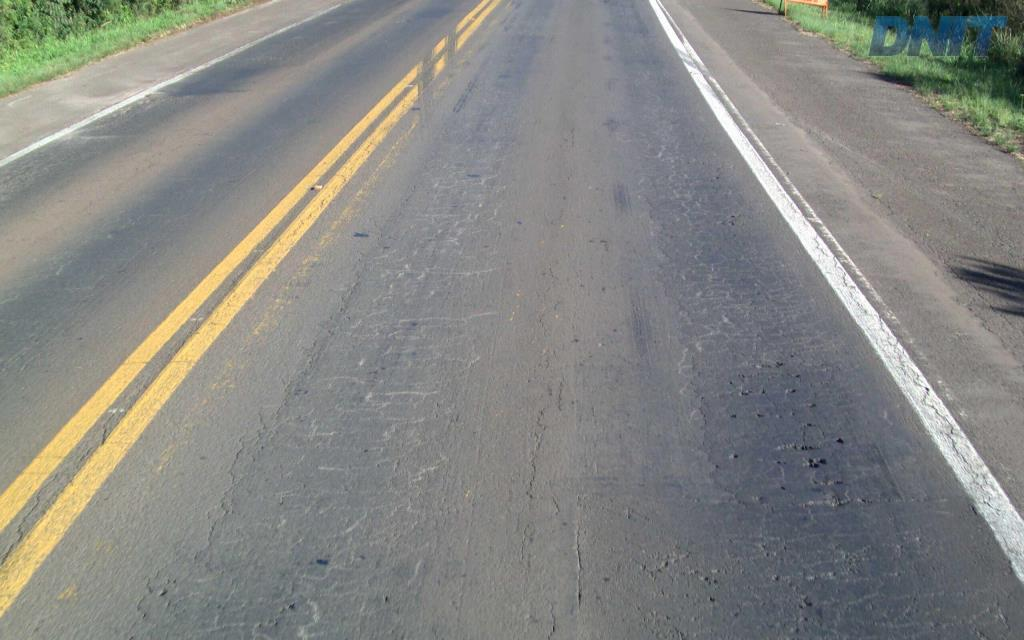crack: (830, 462, 853, 512)
pothole: (776, 436, 818, 453), (806, 454, 829, 467), (835, 434, 848, 444)
